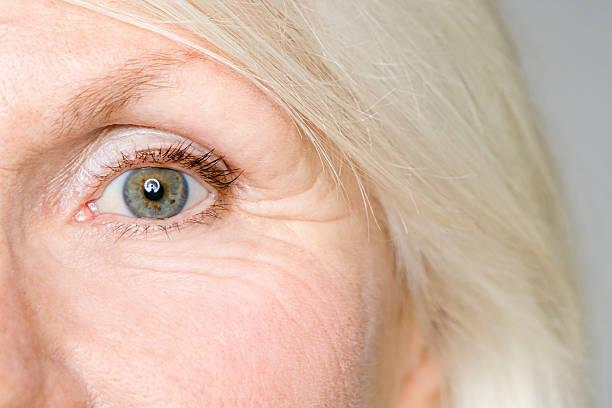Dry-Skin: (225, 154, 408, 408)
